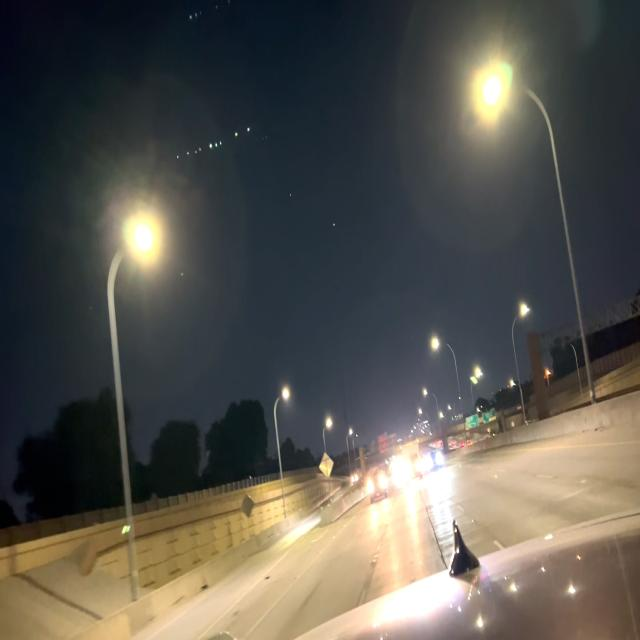back-of-sign: (320, 450, 335, 482)
